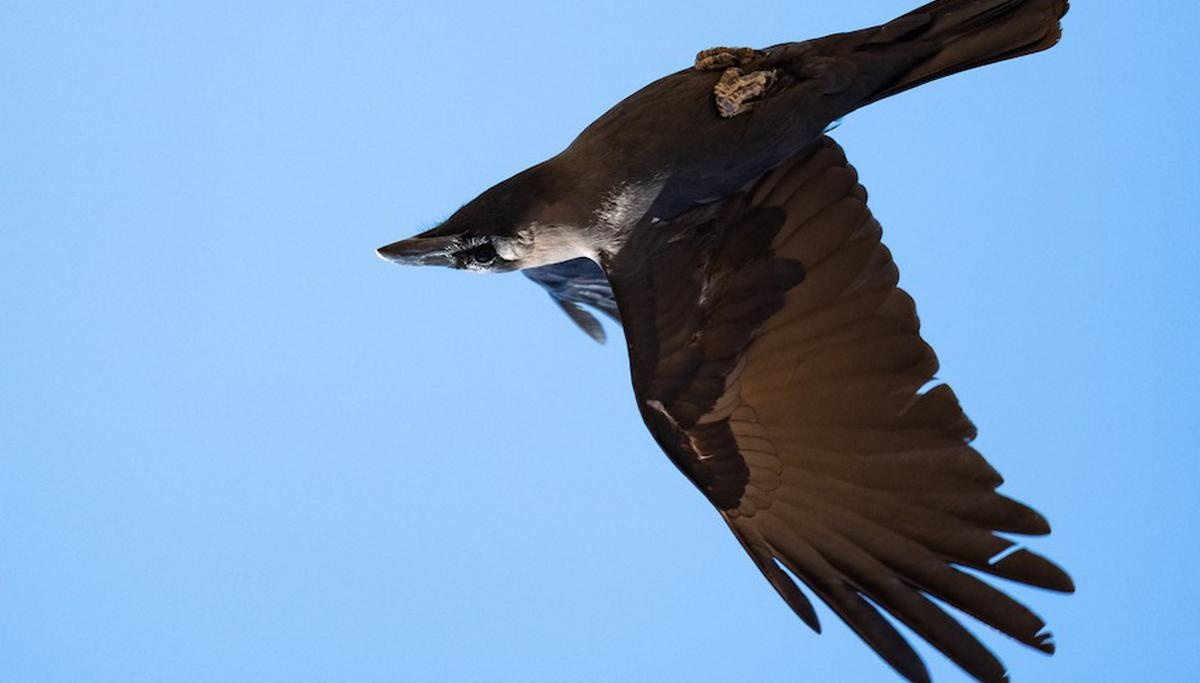crow: (384, 1, 1200, 631)
